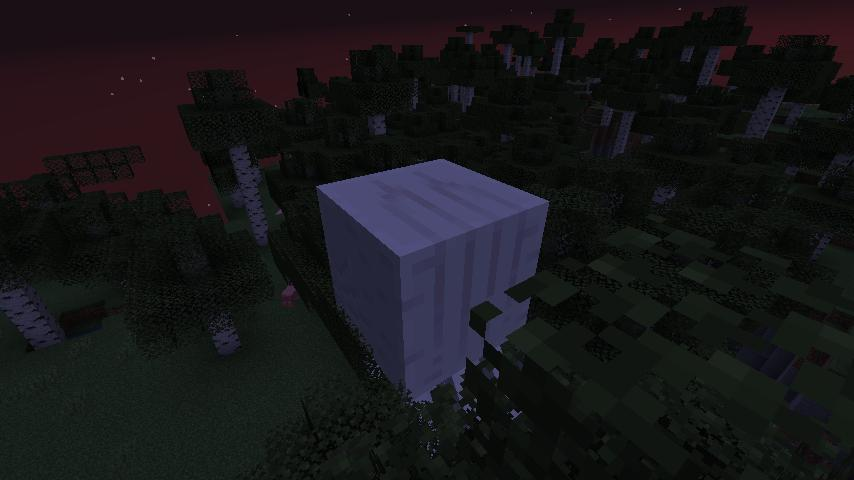ghast: (320, 154, 546, 392)
